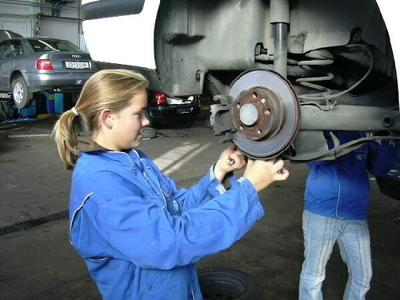person: (54, 68, 291, 299)
